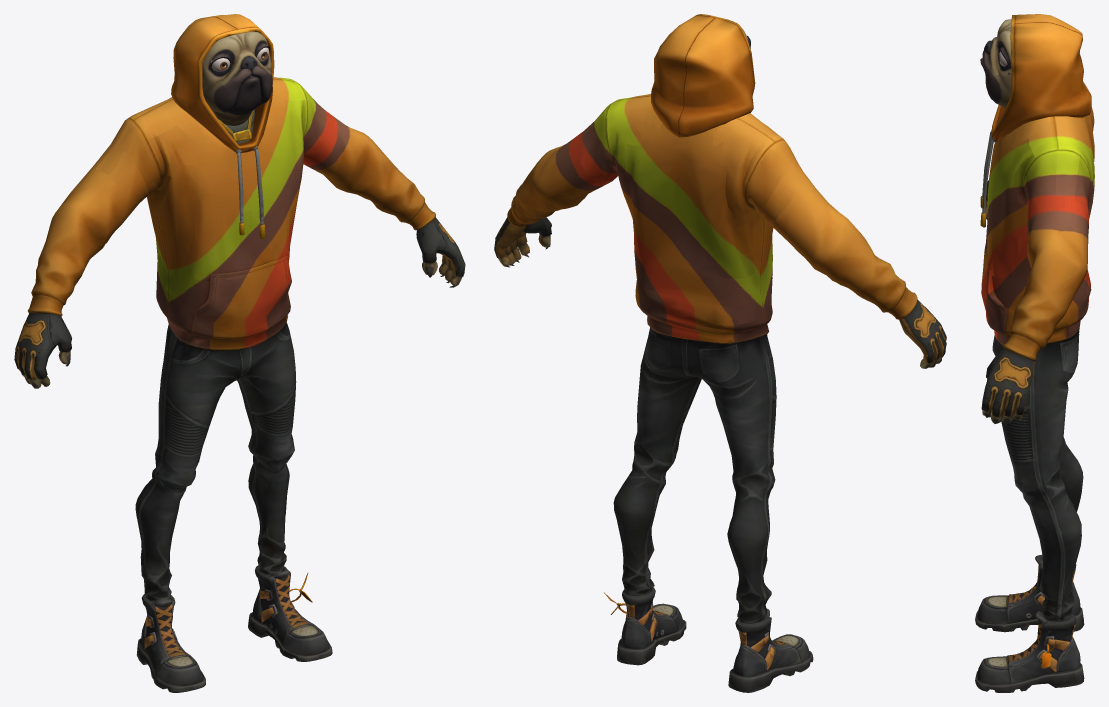
File: pug_outfit.glb
The picture shows the model from 3 angles, left to right: view 1: azimuth 30°, elevation 25°; view 2: azimuth 150°, elevation 25°; view 3: azimuth 270°, elevation 25°; orthographic projection.
Parts seen in each view (by area): view 1: Object_2, Object_3, Object_4; view 2: Object_2, Object_3; view 3: Object_2, Object_3, Object_4.
Part boxes in pixels (bbox=[...]): Object_2: bbox=[14, 77, 465, 692]; Object_3: bbox=[171, 14, 274, 239]; Object_4: bbox=[202, 31, 272, 125]; Object_2: bbox=[494, 94, 946, 692]; Object_3: bbox=[651, 14, 755, 137]; Object_2: bbox=[975, 107, 1094, 692]; Object_3: bbox=[980, 14, 1091, 227]; Object_4: bbox=[980, 19, 1011, 108].
Bounding box in the file's own units: 120 × 165 × 28.45.
Materials: 3 (3 with a texture image).
